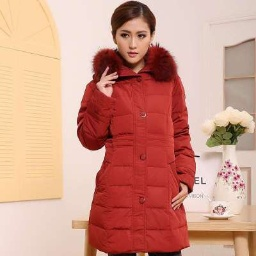face: (103, 1, 163, 68)
